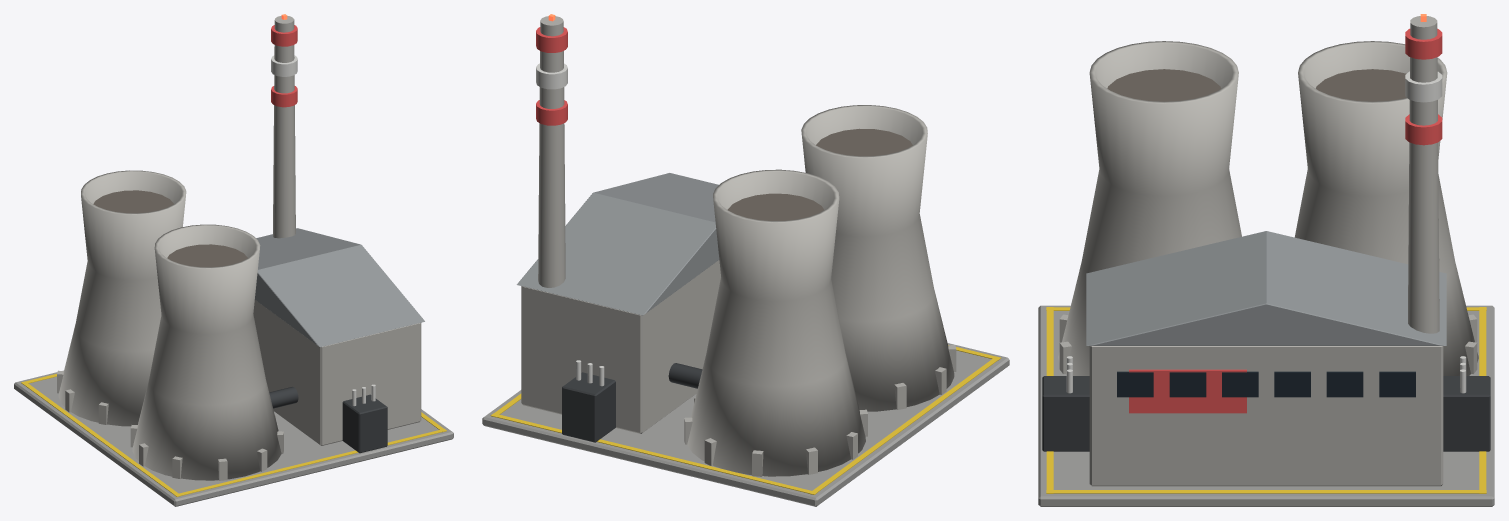
File: power.glb
The picture shows the model from 3 angles, left to right: view 1: azimuth 30°, elevation 25°; view 2: azimuth 150°, elevation 25°; view 3: azimuth 270°, elevation 25°; orthographic projection. The views are drawn at different scales.
Visible parts, largest first — view 1: Base; view 2: Base; view 3: Base.
Part boxes in pixels (x1,y1,x2,y2): Base: (14, 14, 453, 506); Base: (482, 14, 1009, 506); Base: (1038, 14, 1494, 506).
Size of the model in its own units: 11.6 by 13.18 by 11.6.
